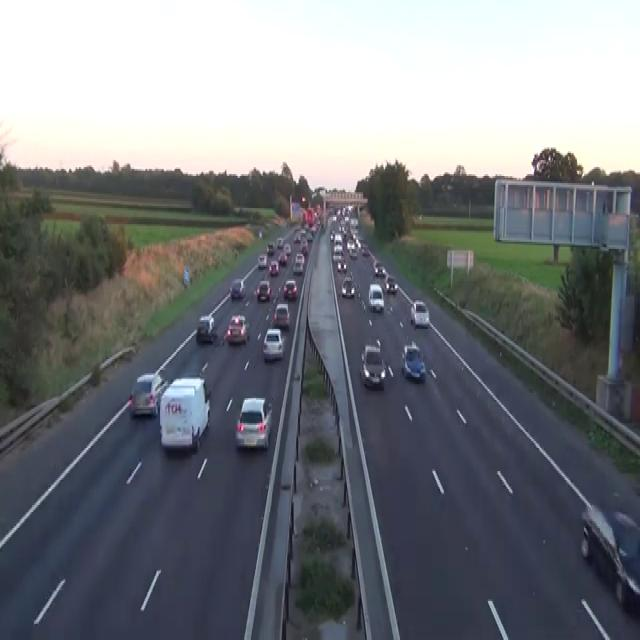Car: (580, 502, 639, 612), (234, 396, 272, 450), (128, 372, 168, 418), (359, 343, 386, 389), (401, 342, 426, 382), (262, 327, 284, 361), (225, 313, 249, 343), (410, 299, 429, 327), (196, 315, 214, 343), (272, 302, 290, 329), (368, 283, 384, 311), (230, 277, 245, 299), (256, 279, 271, 301), (283, 279, 297, 299), (341, 277, 355, 297), (292, 252, 304, 274), (384, 276, 398, 294), (373, 260, 385, 278), (332, 246, 343, 262), (257, 252, 267, 268), (269, 260, 279, 276), (300, 240, 308, 256), (278, 251, 287, 265), (344, 270, 354, 281), (337, 260, 346, 272), (266, 242, 274, 254), (361, 244, 369, 256), (283, 242, 291, 254), (276, 236, 283, 249), (349, 247, 357, 258), (305, 231, 313, 242), (350, 217, 358, 227), (334, 233, 342, 243), (293, 231, 300, 242), (329, 229, 334, 242), (258, 228, 262, 238), (332, 215, 336, 222)
Truck: (159, 375, 211, 452)
